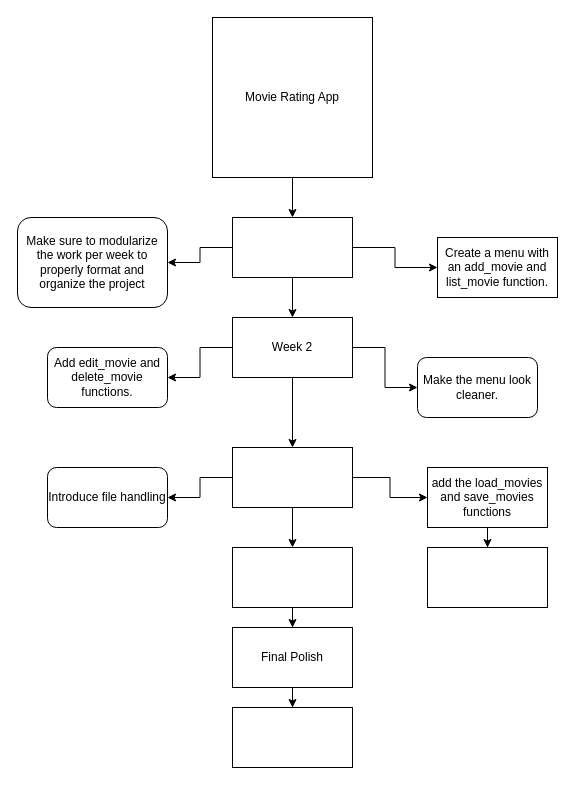
Image size: 575x785. Some labels were removed from this diagram. Here are the shapes that lost their labels. From the top down, the box of each, then its label:
(232, 216, 352, 278): Week 1
(232, 446, 352, 508): Week 3
(232, 546, 352, 608): Test the app
(426, 546, 548, 608): call load_movies at the start of the app, and save_movies when the user exits.
(232, 706, 352, 768): Completed Project
